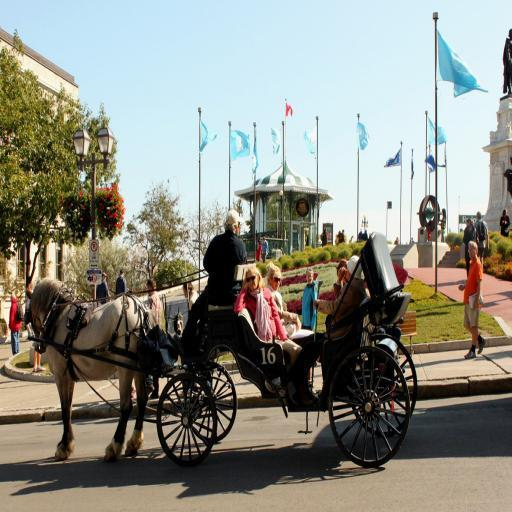horse: (26, 276, 152, 464)
